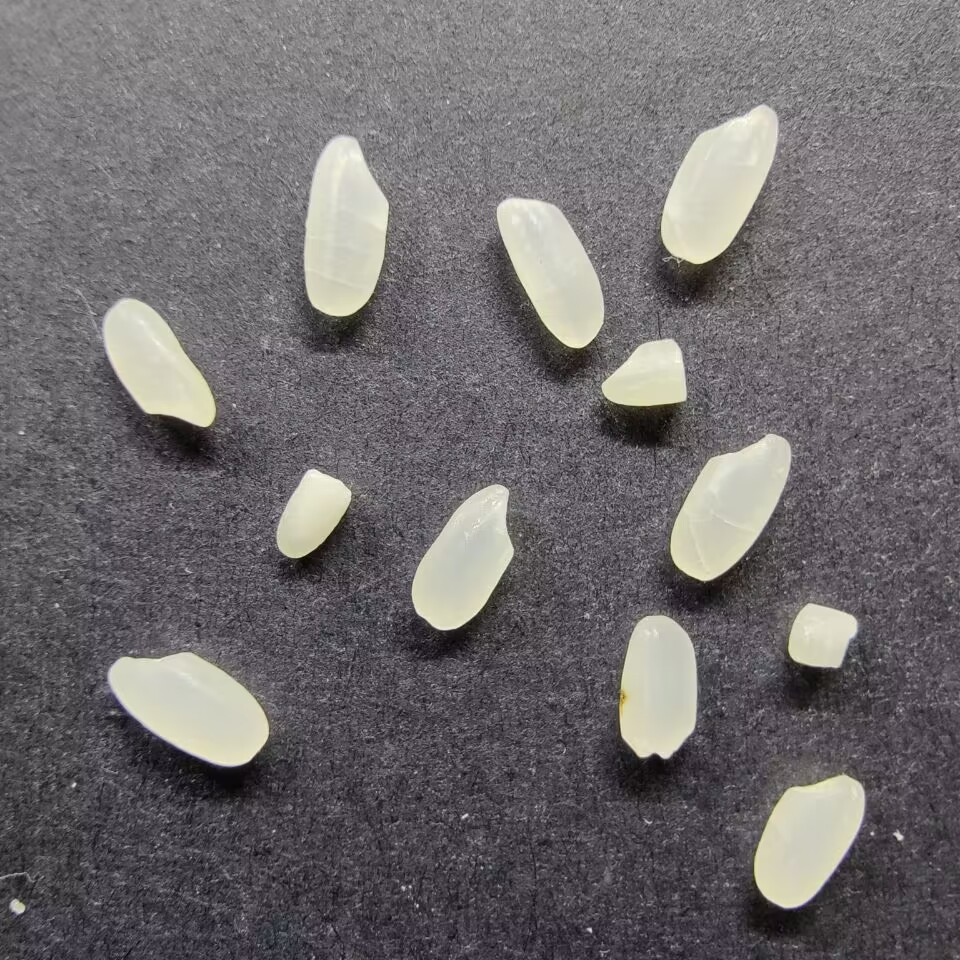broken: (275, 466, 352, 560), (599, 336, 690, 408), (786, 601, 859, 670)
rice: (659, 103, 778, 266), (106, 651, 271, 768), (669, 432, 790, 583), (494, 196, 605, 349), (300, 133, 391, 319), (409, 482, 515, 633), (752, 773, 866, 910), (99, 297, 217, 428), (616, 613, 700, 760)
